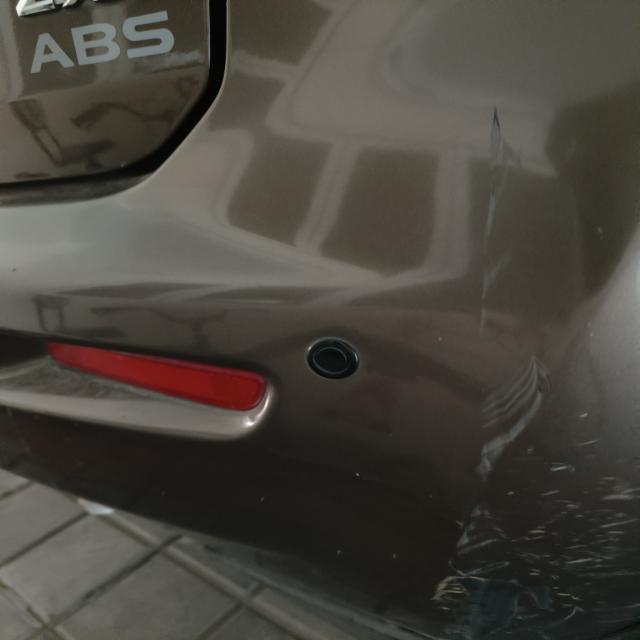scratch: (426, 352, 640, 637), (471, 103, 537, 344)
